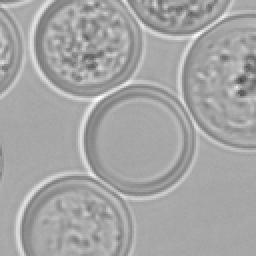picoshell: (80, 84, 196, 198), (30, 0, 142, 100), (176, 12, 254, 150), (14, 172, 134, 254), (122, 0, 232, 38), (0, 8, 22, 98)
